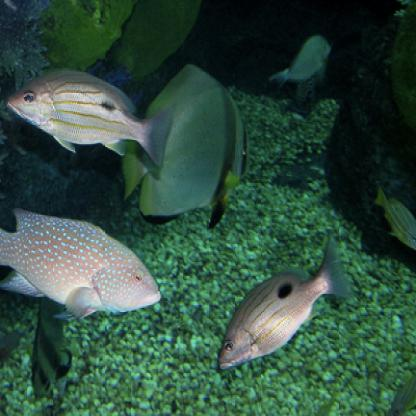grouper: (1, 203, 166, 327)
snapper: (216, 223, 374, 375), (3, 61, 174, 179)
